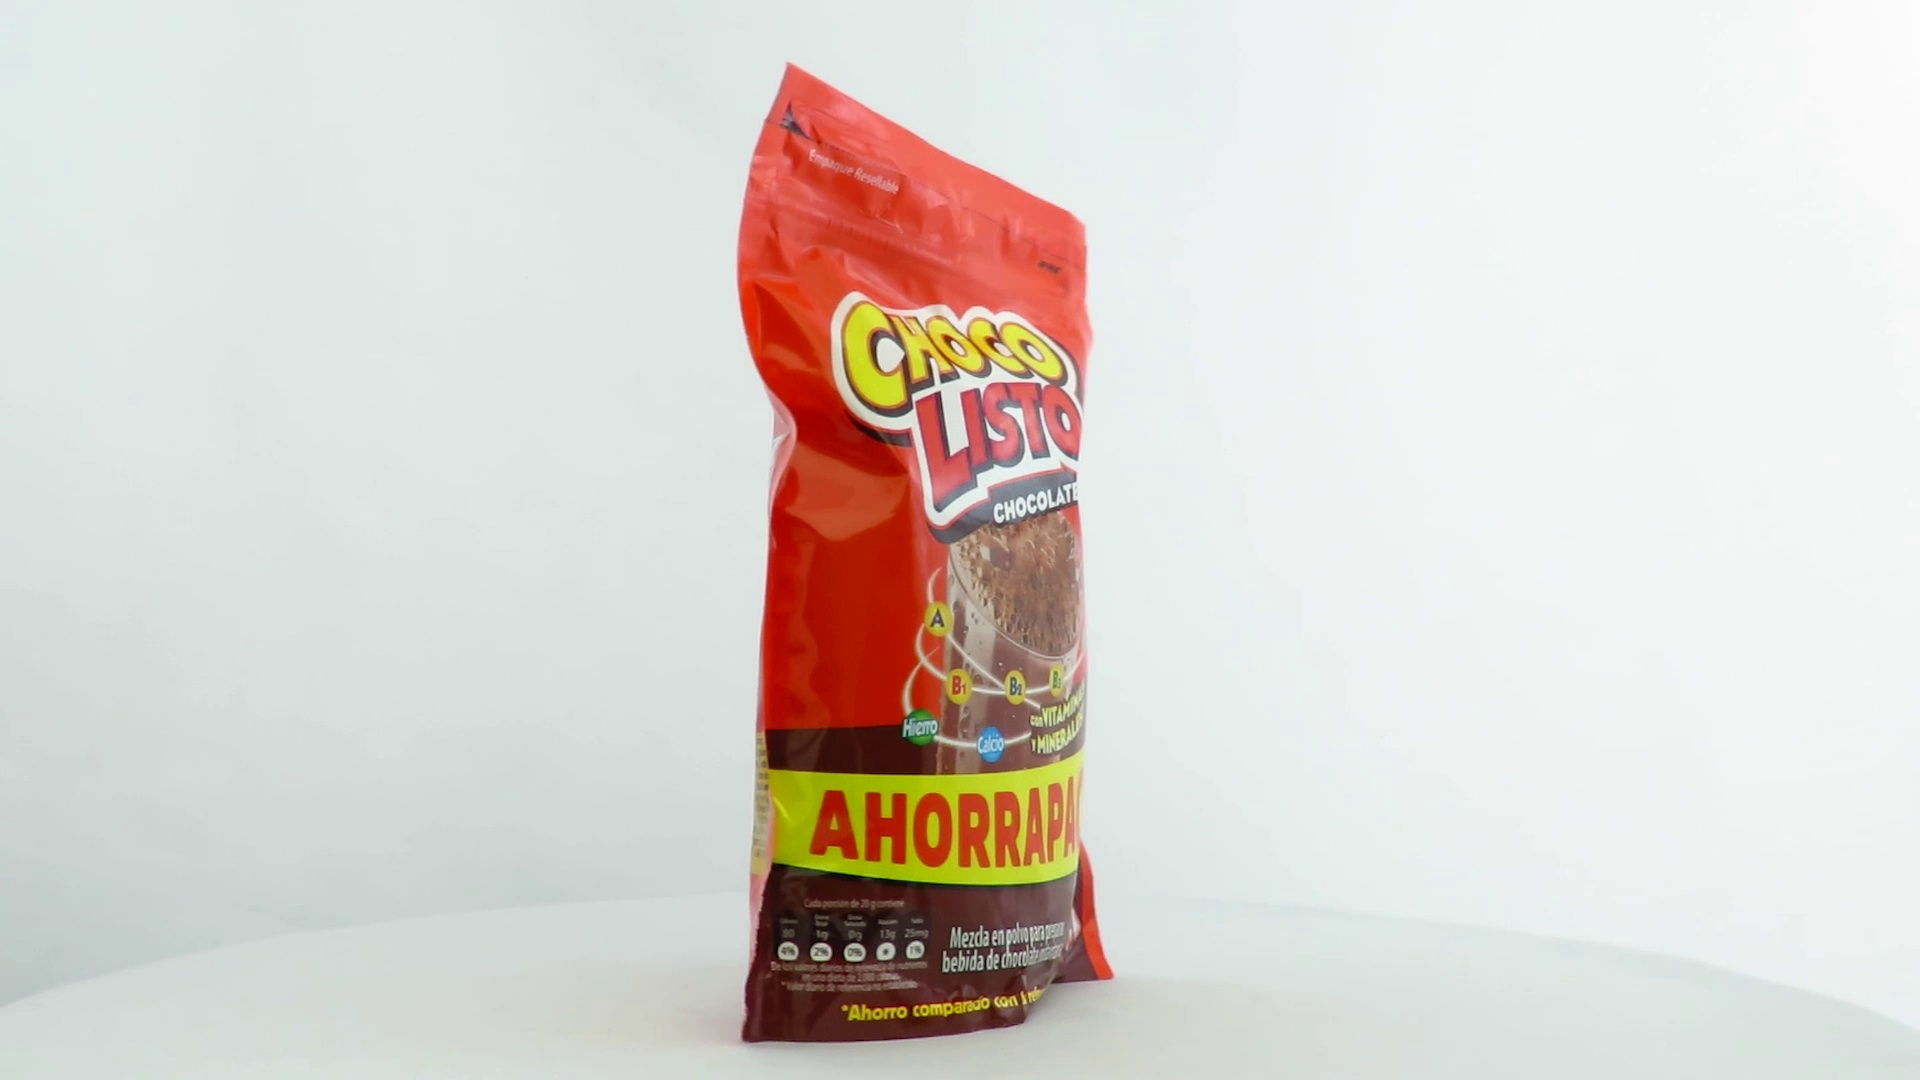COL0170103DYP40000: (732, 57, 1120, 1048)
